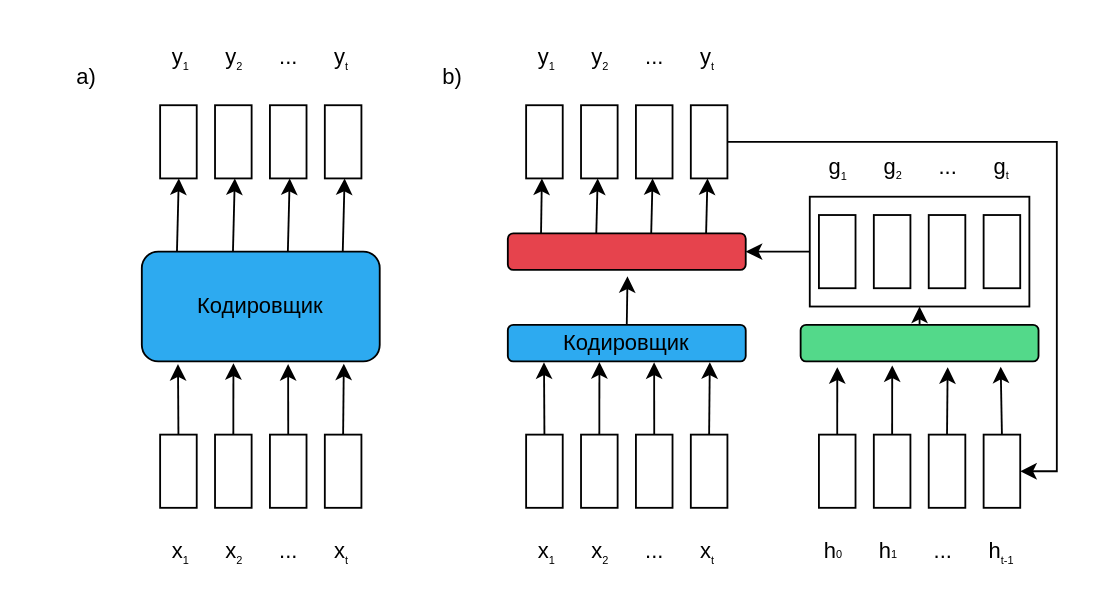
This 1103x611 diagram has some shape labels left out. The box of each missing label's shape, as (x1, y1, x2, y2) in pixels:
Joiner: (506, 231, 746, 270)
Предсказатель: (799, 323, 1039, 361)
